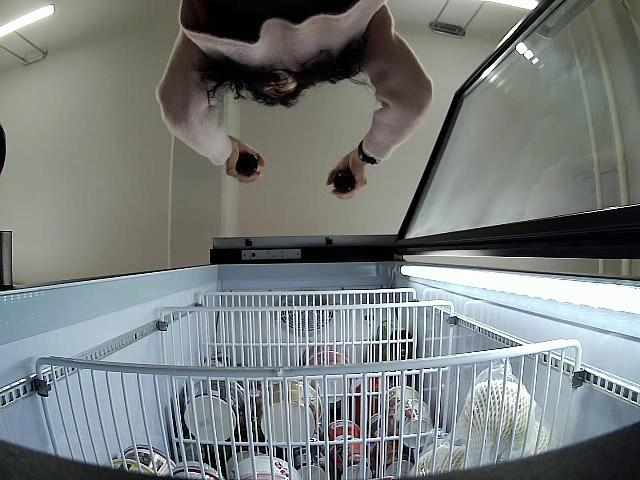00_hand: (322, 151, 367, 199), (225, 140, 264, 183)
17_vita500: (234, 151, 264, 181), (329, 166, 357, 195)
